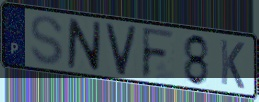8: (181, 31, 211, 88)
F: (140, 25, 177, 81)
K: (219, 37, 246, 92)
N: (65, 17, 103, 74)
S: (28, 13, 65, 67)
V: (104, 21, 139, 78)
